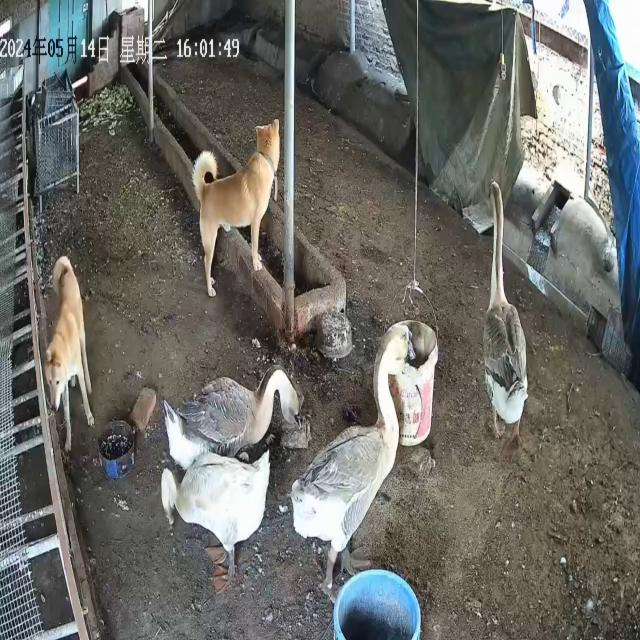dog: (192, 118, 281, 299), (45, 255, 96, 454)
